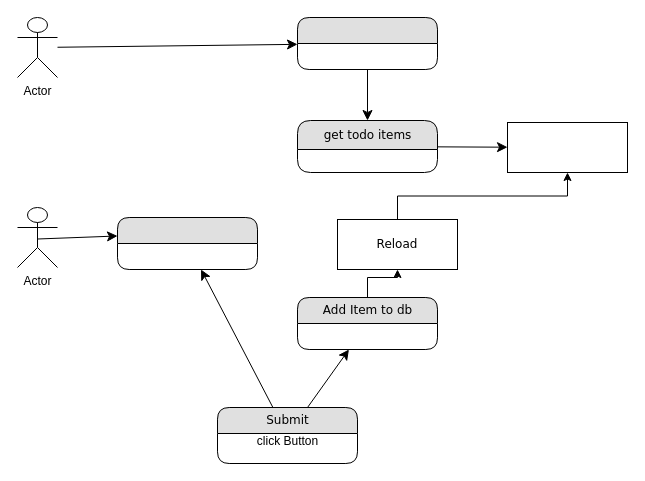
Image size: 645x481. Some labels were removed from this diagram. Here are the shapes that lost their labels. From the top down, the box of each, then its label:
(296, 16, 438, 70): Load
(506, 122, 628, 172): Show ToDo items
(116, 216, 258, 270): Input New Item
